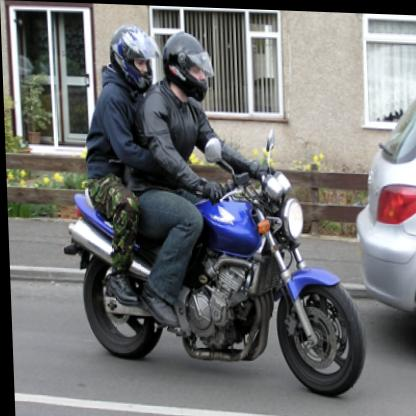With Helmet: (109, 17, 162, 91), (164, 30, 215, 101)
